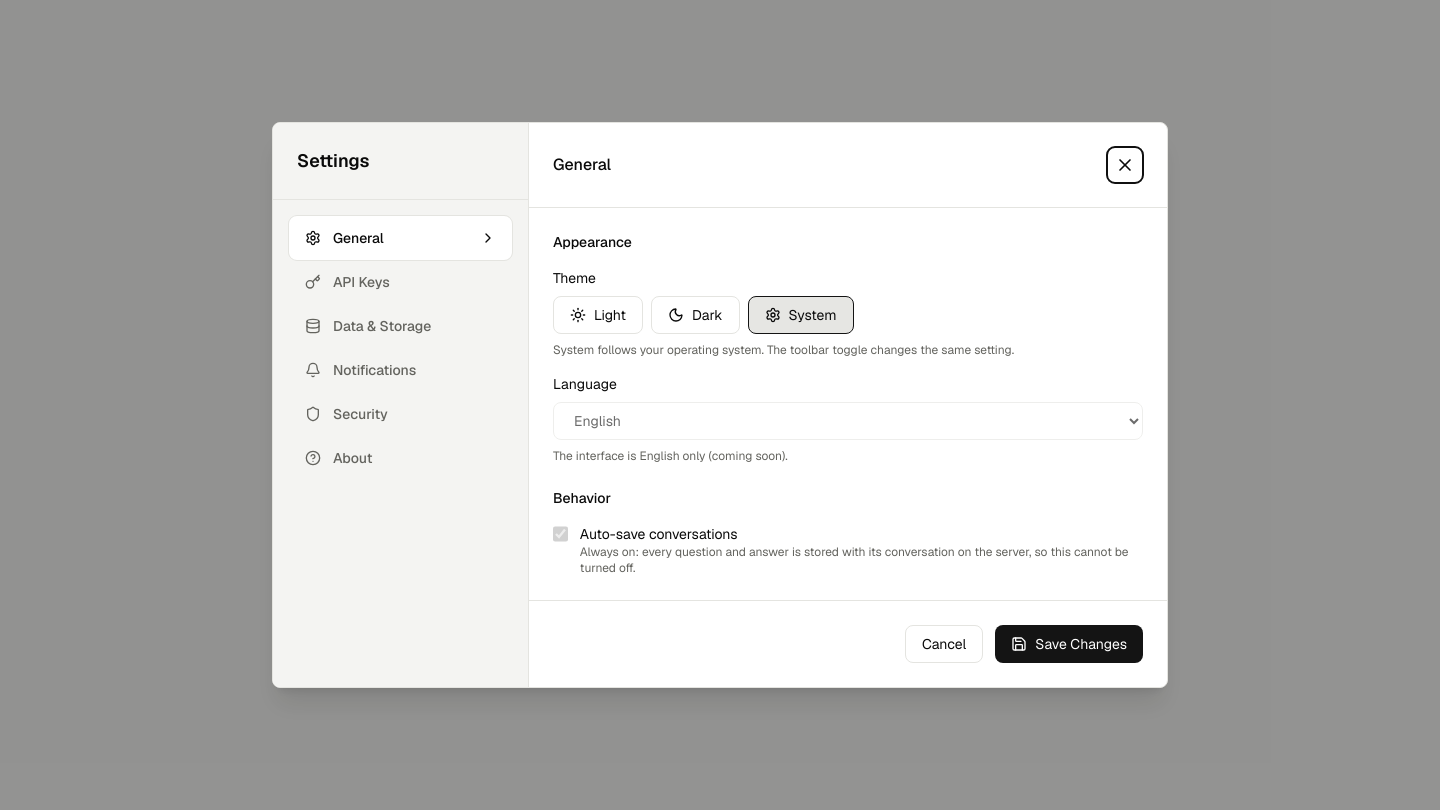
Scenario: settings with unavailable provider controls › creates a key once, lists metadata, and revokes it
Click the button "API Keys": (400,282) [289,260,512,304]
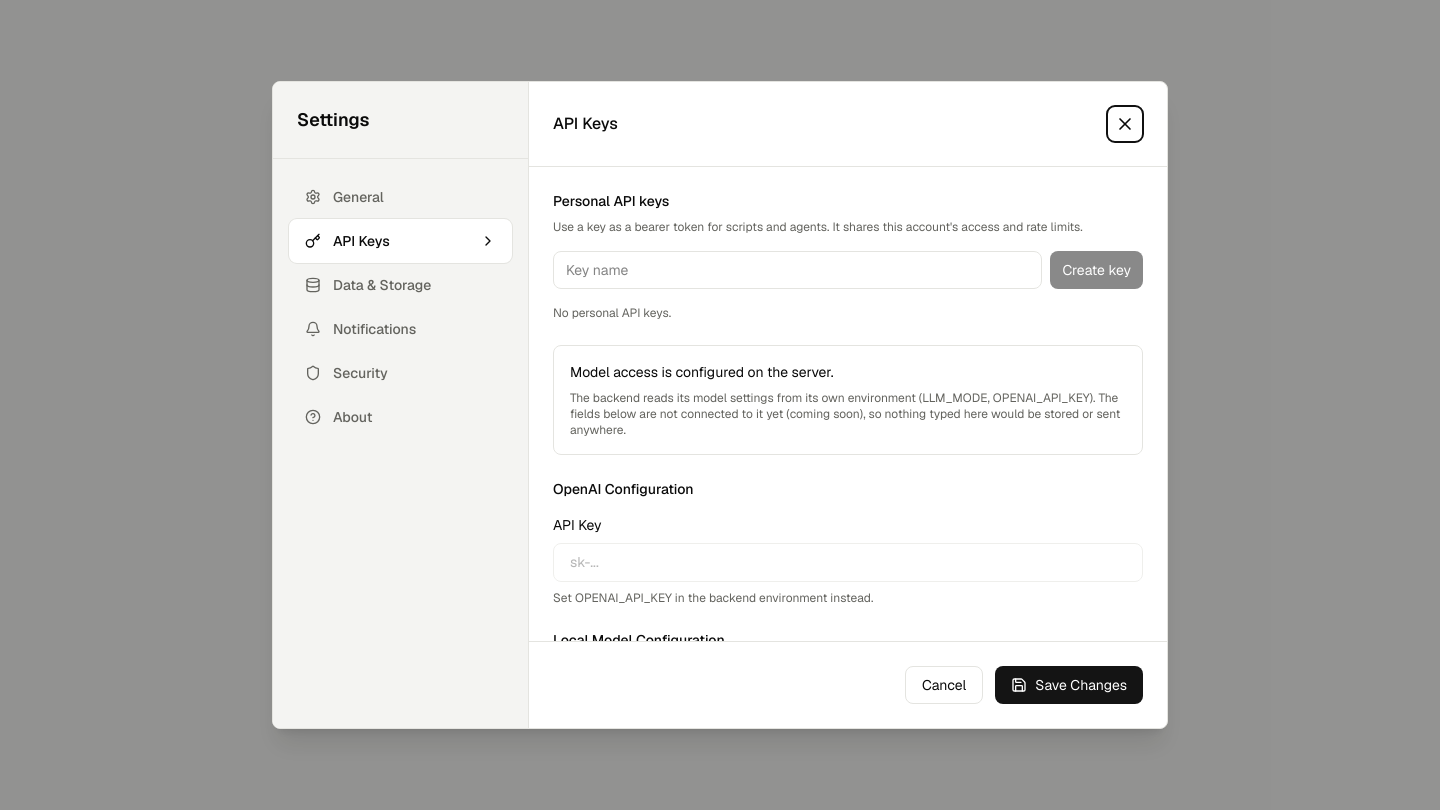
In the field named "API key name": (798,270) [553,251,1042,289], type "nightly job"
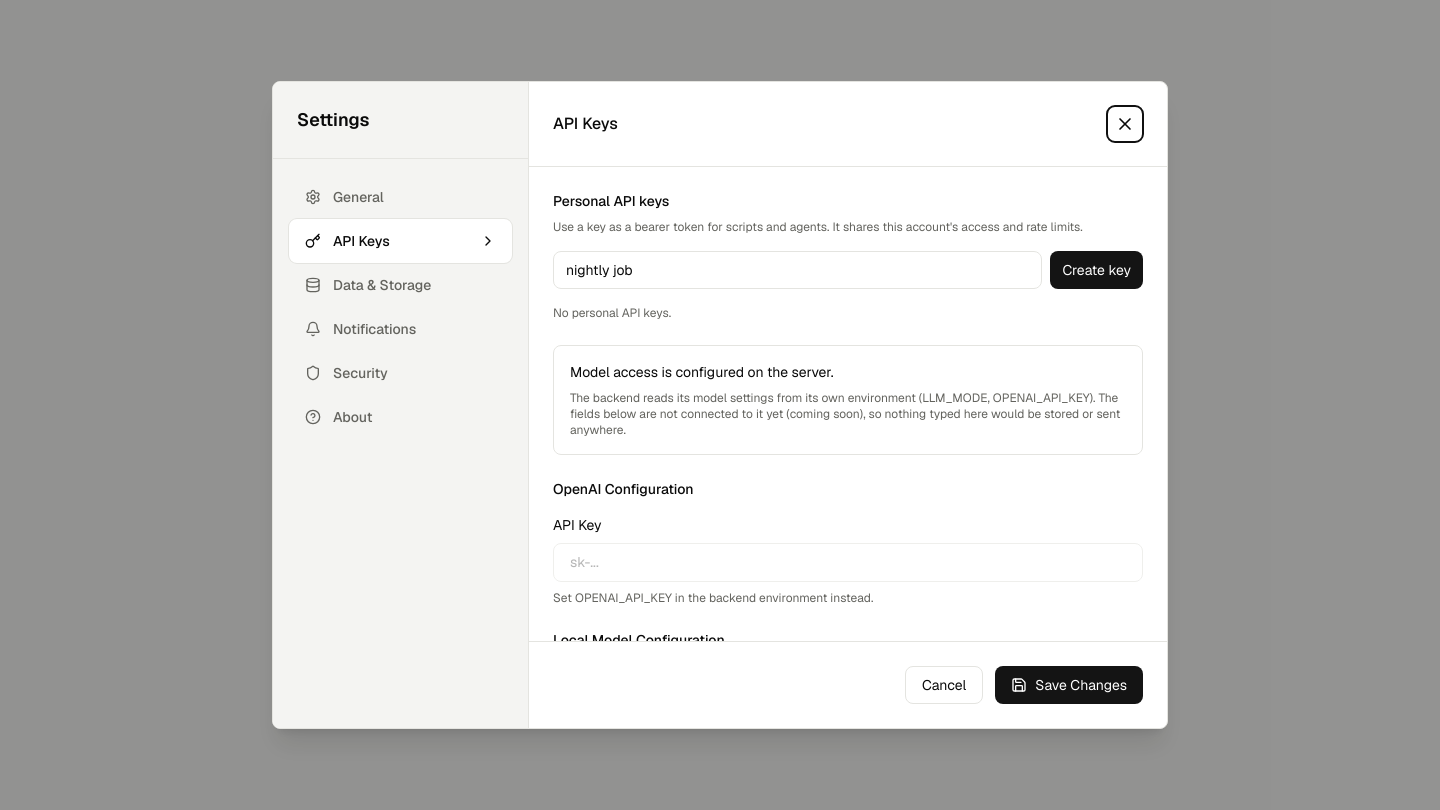
Click the button "Create key": (1097,270) [1050,251,1143,289]
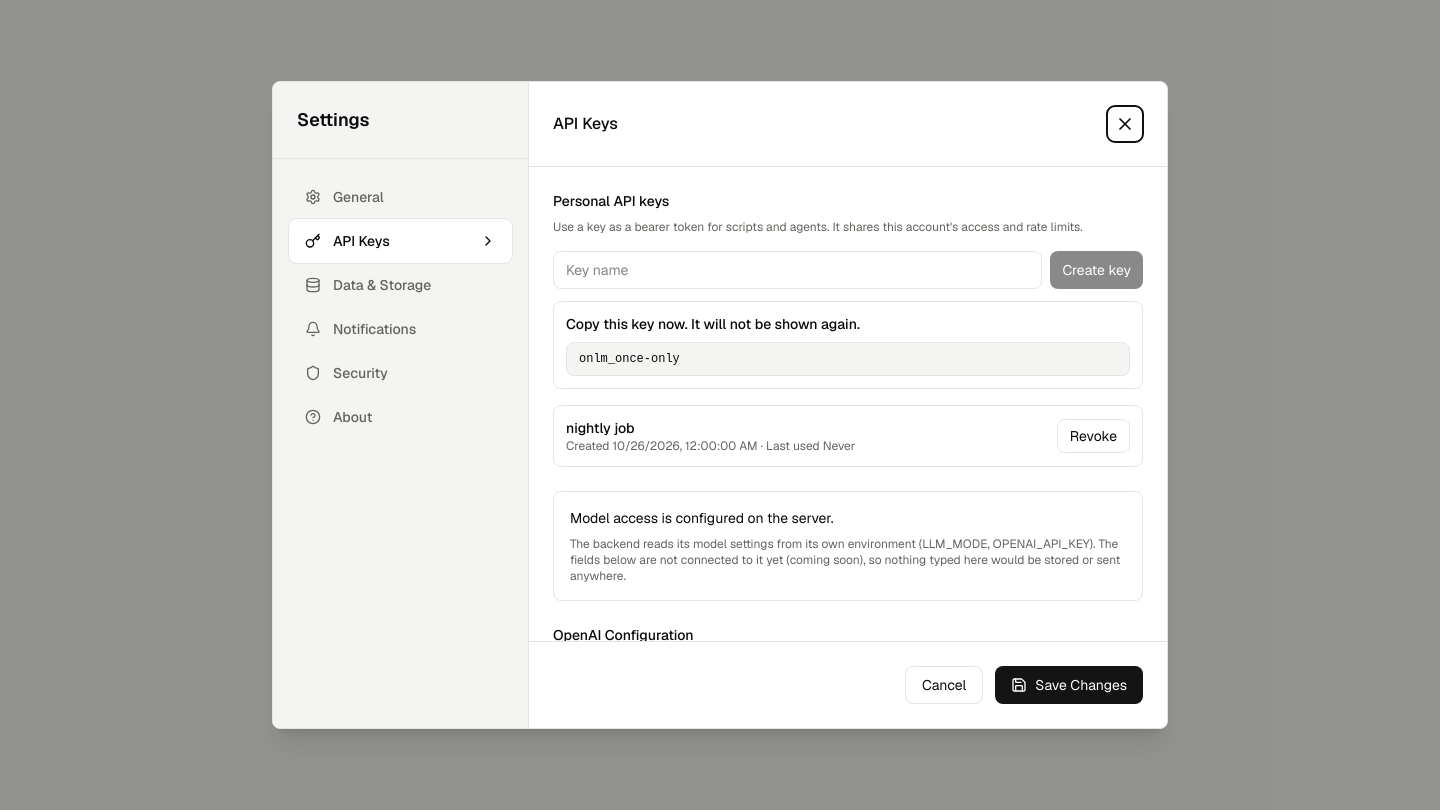
Expected: the field named "New personal API key" holds "onlm_once-only", [566,342,1130,376]
Expected: the text "nightly job" is shown, [566,419,635,437]
Click the button with aria-label "Revoke API key nightly job": (1093,436) [1057,419,1130,453]
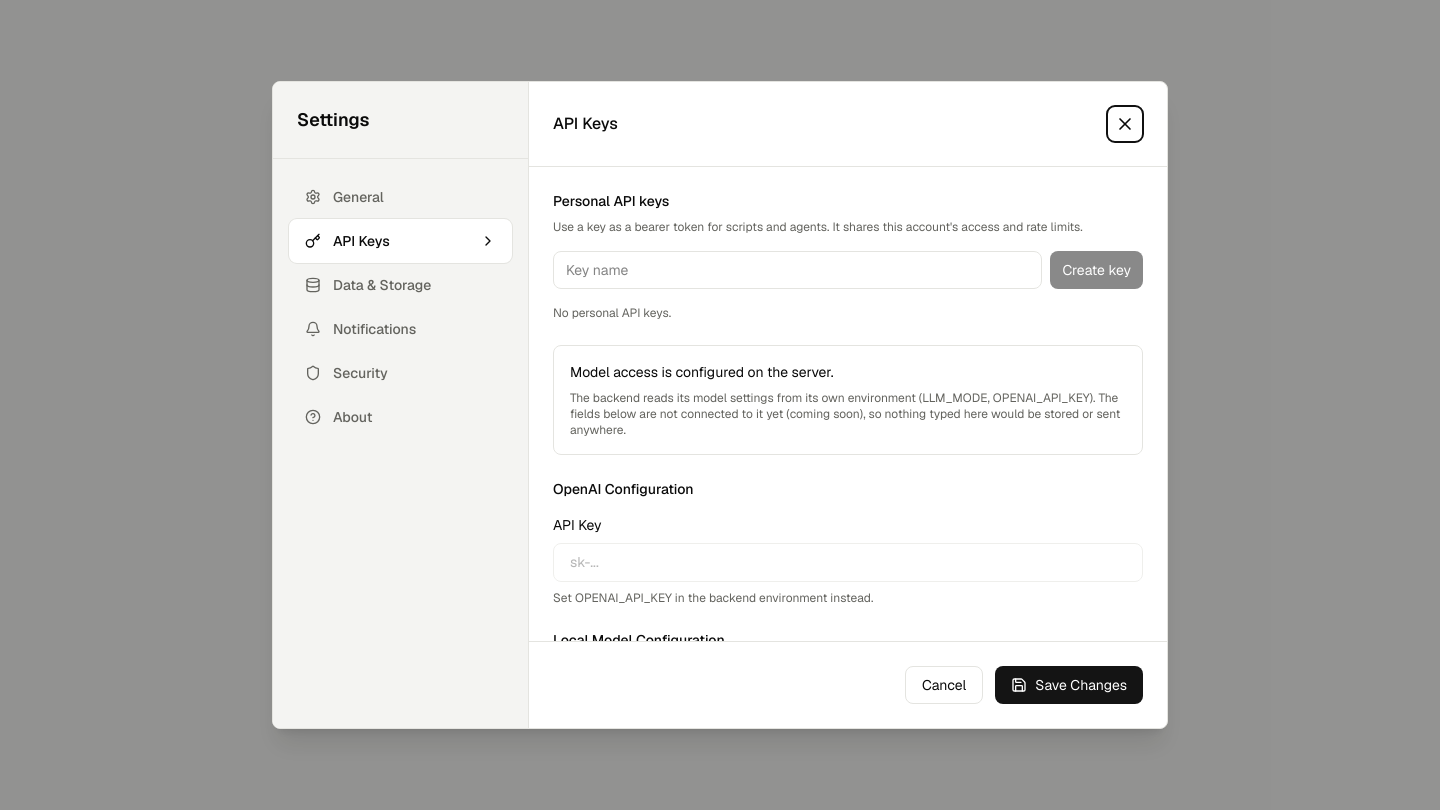
Expected: the text "nightly job" is gone
